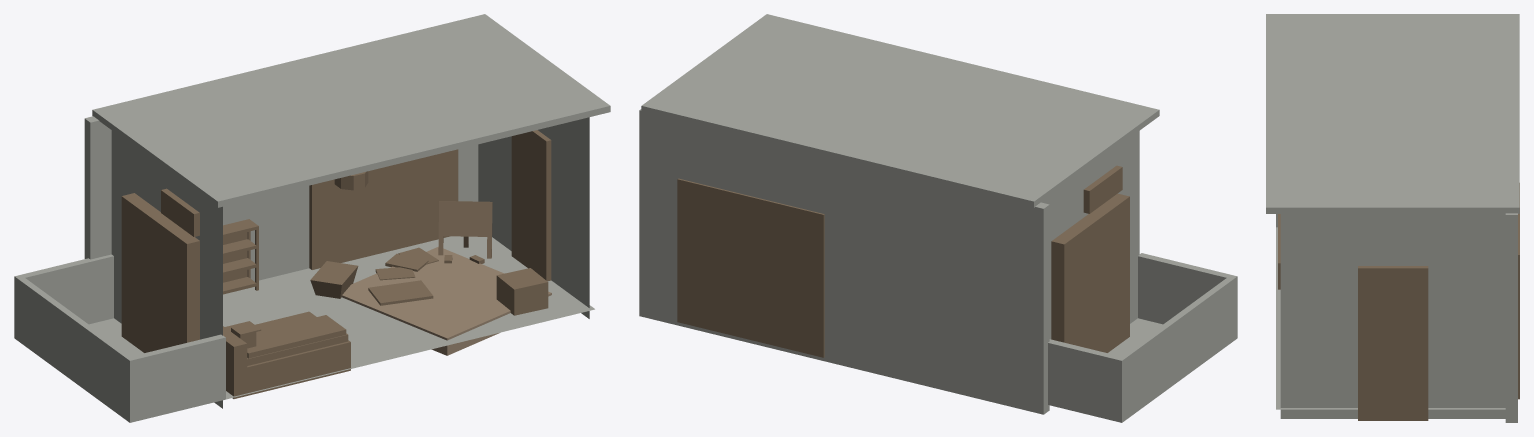
File: kidbedroom.fbx
3 views of the same model, side by side, from view 1: azimuth 30°, elevation 25°; view 2: azimuth 150°, elevation 25°; view 3: azimuth 270°, elevation 25° (orthographic).
Visible parts, largest first — view 1: pPlane109, pPlane123, pPlane53, pPlane60, pPlane57, pPlane54, pPlane64, pPlane113, pPlane56, pPlane63, pPlane55, polySurface330 (+8 smaller); view 2: pPlane54, pPlane109, pPlane60, pPlane123, pPlane57, pPlane56, pCylinder80, pPlane122; view 3: pPlane109, pPlane64, pPlane63, pPlane54, pPlane53, pPlane60.
Part boxes in pixels (box(x1,y1,x2,y2)): pPlane109: box(92, 14, 610, 207); pPlane123: box(14, 254, 225, 422); pPlane53: box(116, 236, 594, 399); pPlane60: box(309, 149, 458, 269); pPlane57: box(121, 193, 199, 352); pPlane54: box(84, 116, 478, 281); pPlane64: box(478, 117, 589, 318); pPlane113: box(341, 246, 551, 355); pPlane56: box(111, 130, 222, 408); pPlane63: box(511, 130, 551, 281); pPlane55: box(223, 311, 350, 398); polySurface330: box(438, 201, 492, 258); pPlane54: box(639, 109, 1049, 414); pPlane109: box(641, 14, 1159, 207); pPlane60: box(677, 178, 824, 357); pPlane123: box(1048, 253, 1237, 422); pPlane57: box(1051, 193, 1129, 352); pPlane56: box(1041, 131, 1139, 339); pCylinder80: box(1083, 165, 1122, 213); pPlane122: box(1108, 318, 1162, 355); pPlane109: box(1266, 14, 1519, 213); pPlane64: box(1280, 214, 1505, 418); pPlane63: box(1358, 266, 1428, 420); pPlane54: box(1505, 213, 1517, 422); pPlane53: box(1276, 227, 1505, 409); pPlane60: box(1518, 183, 1519, 399).
Bounding box in the file's own units: 10.62 × 4.67 × 4.83.
